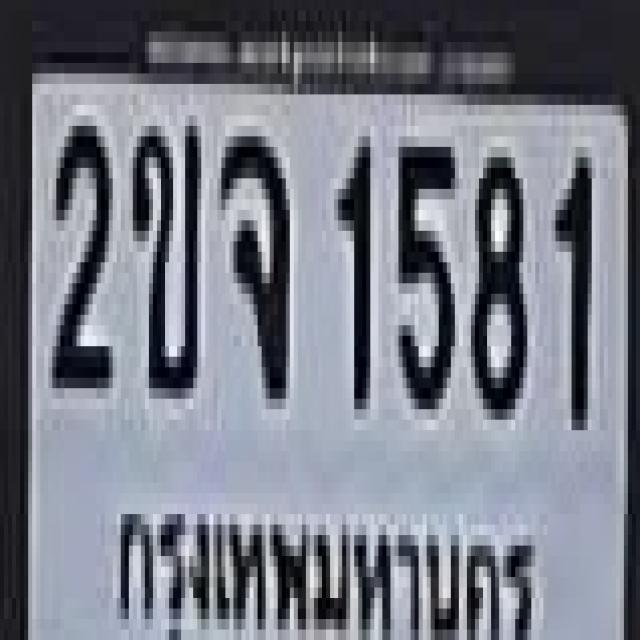1: (552, 147, 588, 420), (334, 126, 366, 399)
2: (48, 115, 109, 378)
5: (394, 136, 451, 399)
8: (467, 147, 523, 409)
A02: (129, 115, 197, 388)
A08: (217, 126, 286, 388)
BKK: (106, 485, 544, 640)
